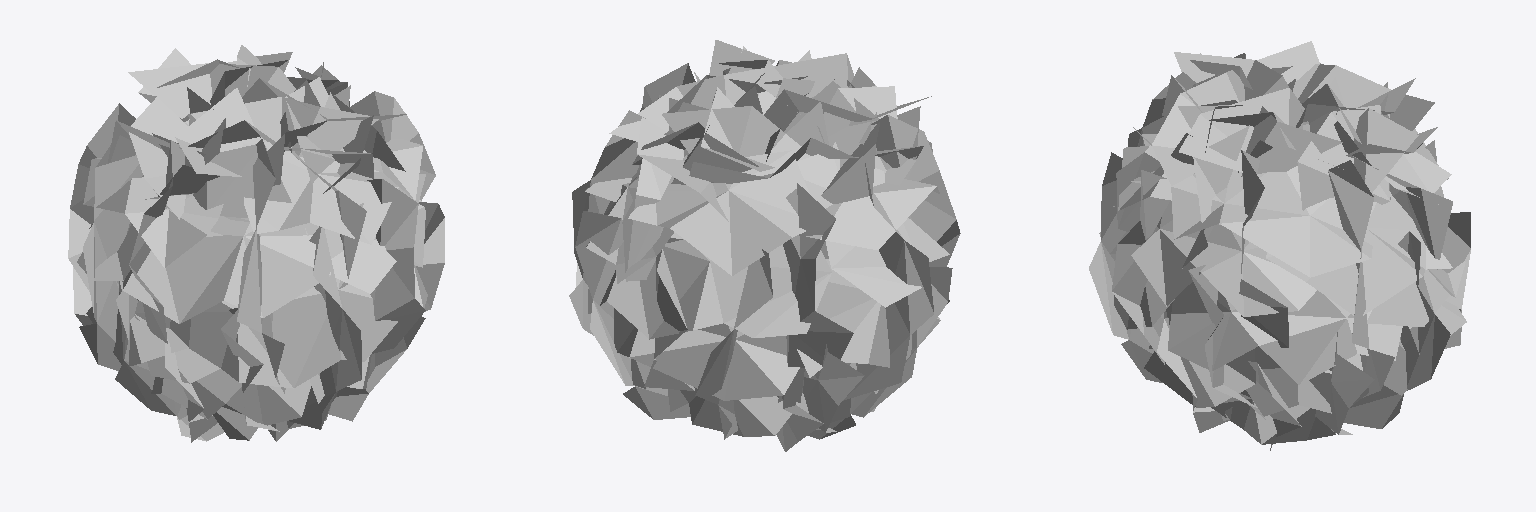
3 views of the same model, side by side, from view 1: azimuth 30°, elevation 25°; view 2: azimuth 150°, elevation 25°; view 3: azimuth 270°, elevation 25° (orthographic).
Visible parts, largest first — view 1: Bistro_Research_Exterior_bux_hedge_ball_small_3943; view 2: Bistro_Research_Exterior_bux_hedge_ball_small_3943; view 3: Bistro_Research_Exterior_bux_hedge_ball_small_3943.
Boxes of the visible parts, x1,y1,x2,y2 form: Bistro_Research_Exterior_bux_hedge_ball_small_3943: [68, 45, 444, 442]; Bistro_Research_Exterior_bux_hedge_ball_small_3943: [569, 40, 960, 451]; Bistro_Research_Exterior_bux_hedge_ball_small_3943: [1089, 41, 1470, 450].
Size of the model in its own units: 1.2 by 1.18 by 1.19.